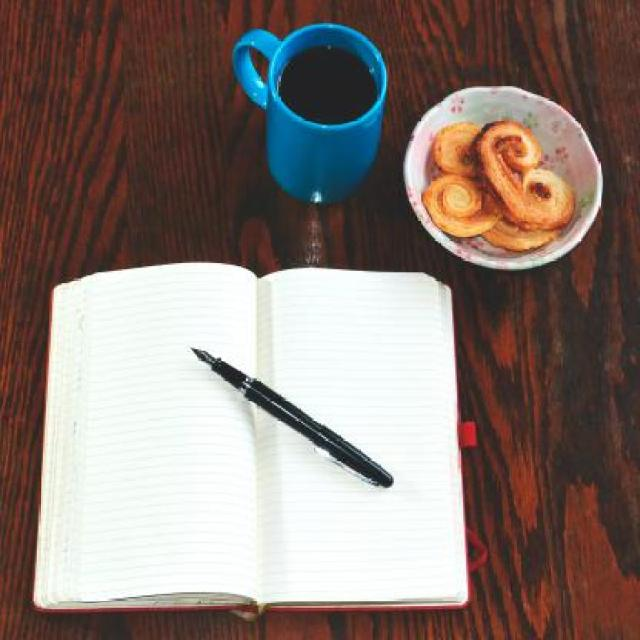book: (29, 270, 456, 614)
glass: (234, 7, 390, 208)
pen: (191, 347, 400, 491)
